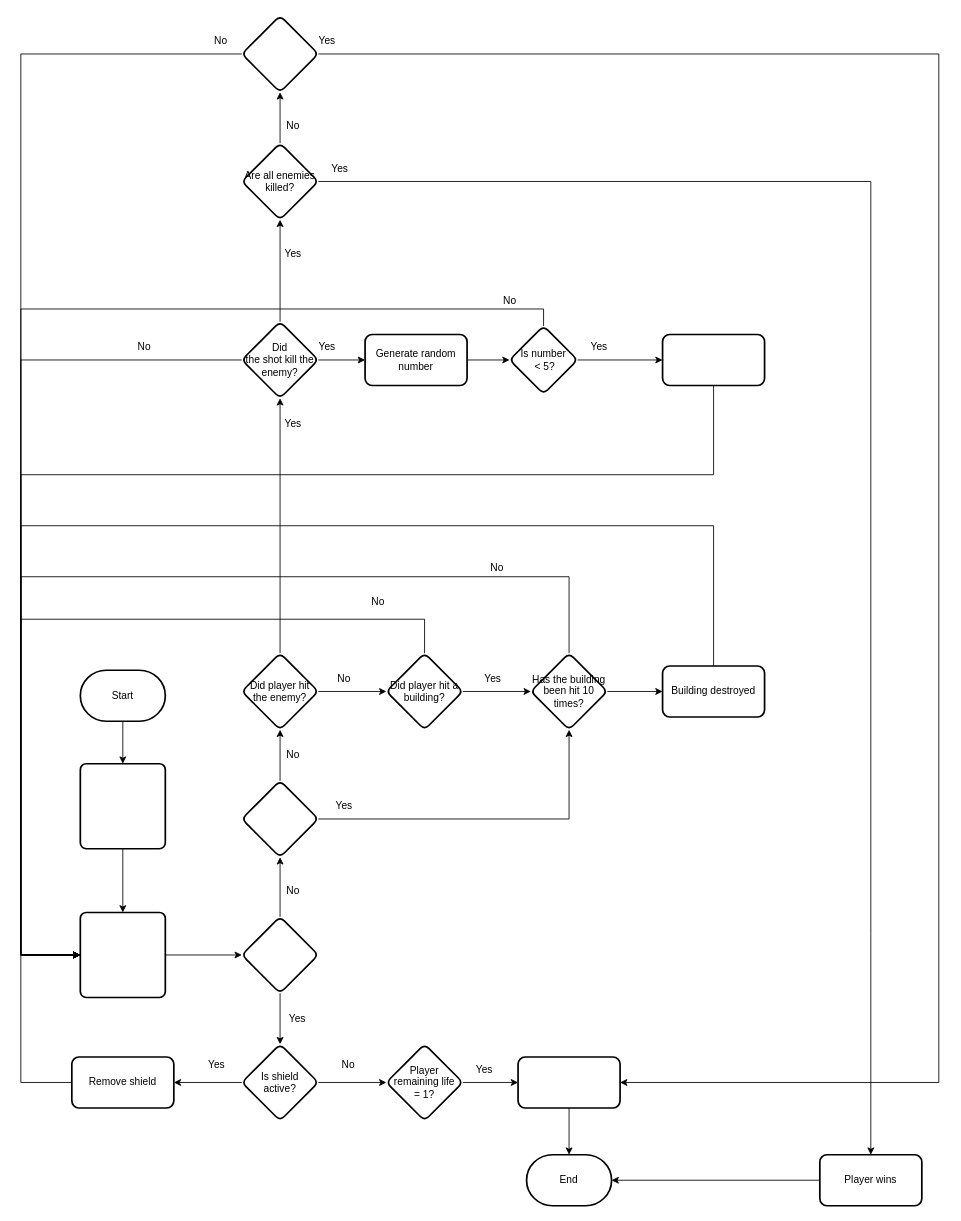
Some shapes in this 961 by 1221 pixel diagram are drawn without their labels. Each missing label, with the box of its shape:
Apply bonus to player: (661, 333, 765, 386)
Does it hit a building?: (241, 779, 319, 858)
Does it hit Player?: (241, 915, 319, 994)
Enemy moves and shoots randomly: (79, 911, 166, 998)
Enemy reached player?: (241, 14, 319, 93)
Game over: (517, 1056, 620, 1108)
Level is loaded: (79, 762, 166, 849)
